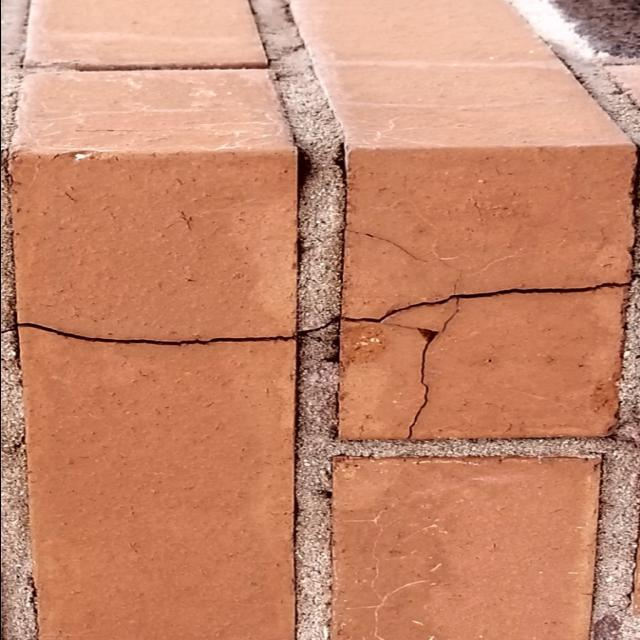crack: (34, 31, 293, 91), (335, 265, 640, 303), (10, 316, 335, 348)
